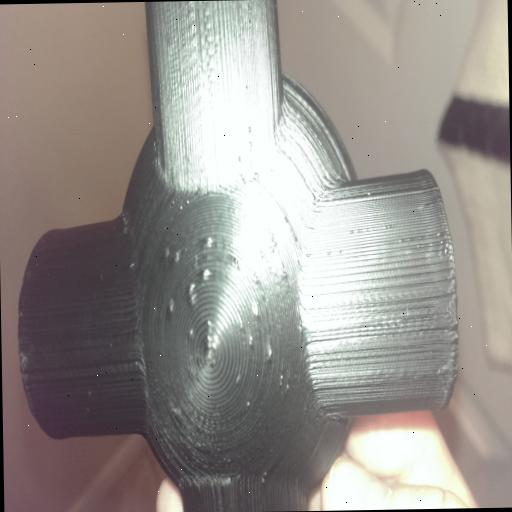blobs: (154, 233, 222, 315), (240, 280, 284, 374)
